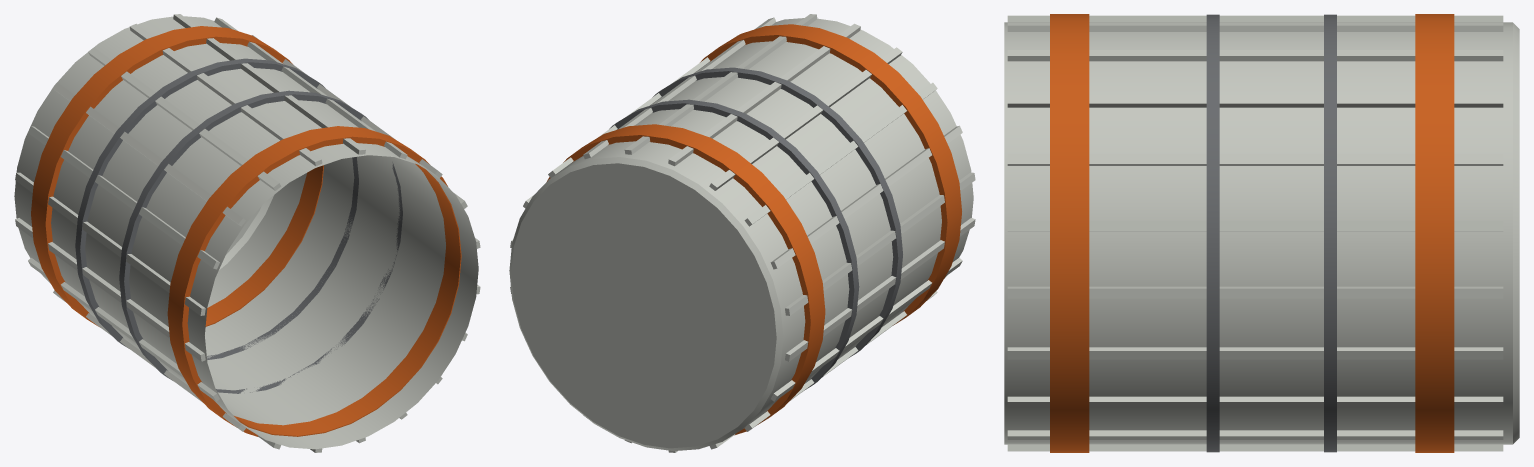
File: u73l_housing.obj
3 views of the same model, side by side, from view 1: azimuth 30°, elevation 25°; view 2: azimuth 150°, elevation 25°; view 3: azimuth 270°, elevation 25° (orthographic). The views are drawn at different scales.
Visible parts, largest first — view 1: u73l_housing; view 2: u73l_housing; view 3: u73l_housing.
Boxes of the visible parts, x1,y1,x2,y2 form: u73l_housing: (14, 14, 480, 452); u73l_housing: (509, 14, 975, 452); u73l_housing: (1004, 14, 1519, 452).
Size of the model in its own units: 3.37 by 3.37 by 3.95.
